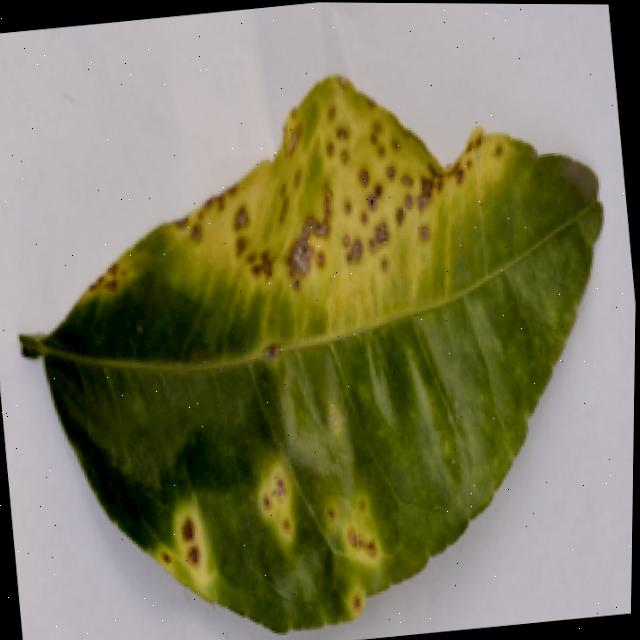canker: (21, 80, 601, 629), (142, 39, 531, 315), (315, 477, 400, 634), (146, 480, 228, 600), (243, 455, 313, 574), (82, 239, 142, 318)
